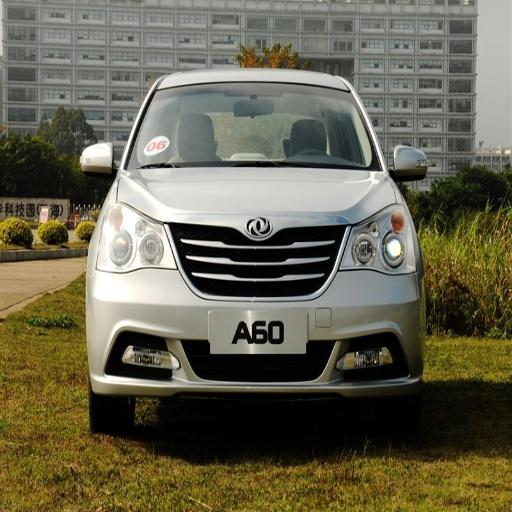front_bumper: (89, 214, 422, 396)
front_right_light: (98, 202, 174, 272)
hood: (119, 168, 396, 224)
left_mirror: (390, 146, 429, 180)
